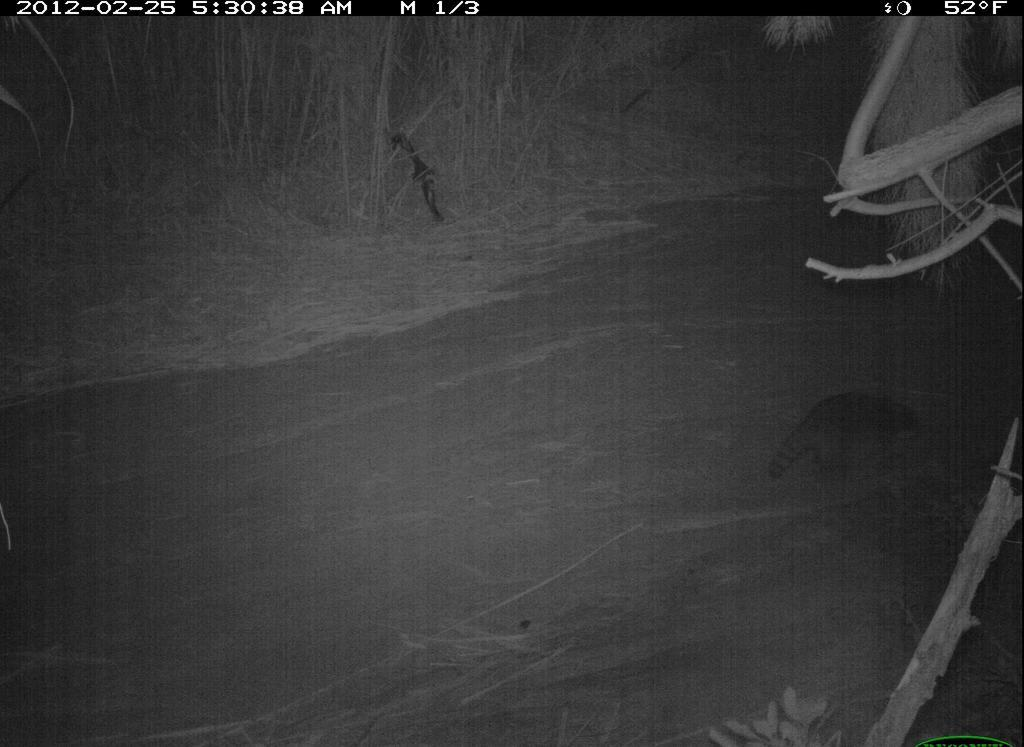raccoon: (760, 372, 943, 498)
